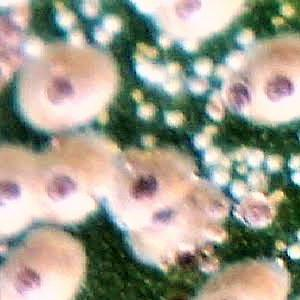Femea: (23, 57, 103, 115), (136, 192, 204, 254), (32, 154, 97, 218), (0, 244, 71, 299), (244, 55, 299, 113), (114, 158, 165, 205), (0, 157, 29, 227), (159, 0, 229, 25)
Linfa: (188, 128, 216, 150), (156, 28, 177, 55), (240, 168, 265, 189), (197, 145, 225, 163), (100, 13, 125, 32), (55, 8, 77, 29), (163, 107, 186, 127), (91, 26, 114, 46), (210, 163, 230, 186), (62, 23, 83, 44), (265, 150, 285, 171), (276, 0, 296, 21), (233, 27, 255, 46), (77, 0, 103, 16), (134, 99, 153, 118), (192, 57, 211, 76), (163, 59, 182, 78), (287, 237, 299, 266), (179, 37, 202, 52), (163, 78, 181, 97), (187, 77, 207, 94), (246, 149, 265, 165), (138, 131, 154, 150), (286, 151, 299, 170)
